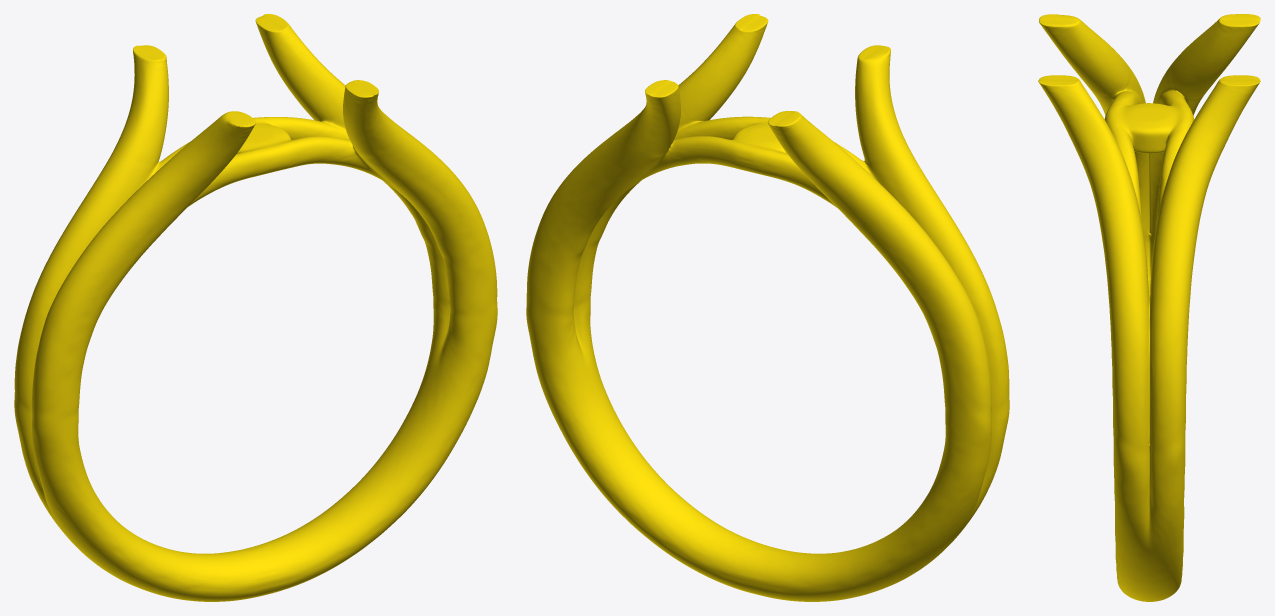
File: Shank_Two row split_Plain Gold_B_Single Halo_Band.glb
3 views of the same model, side by side, from view 1: azimuth 30°, elevation 25°; view 2: azimuth 150°, elevation 25°; view 3: azimuth 270°, elevation 25° (orthographic).
Bounding box in the file's own units: 0.0212 × 0.023 × 0.00881.
